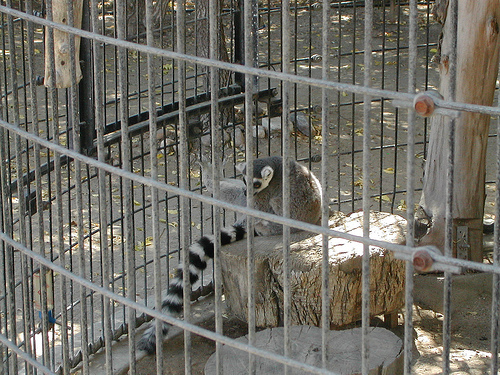cat: (135, 155, 328, 358)
